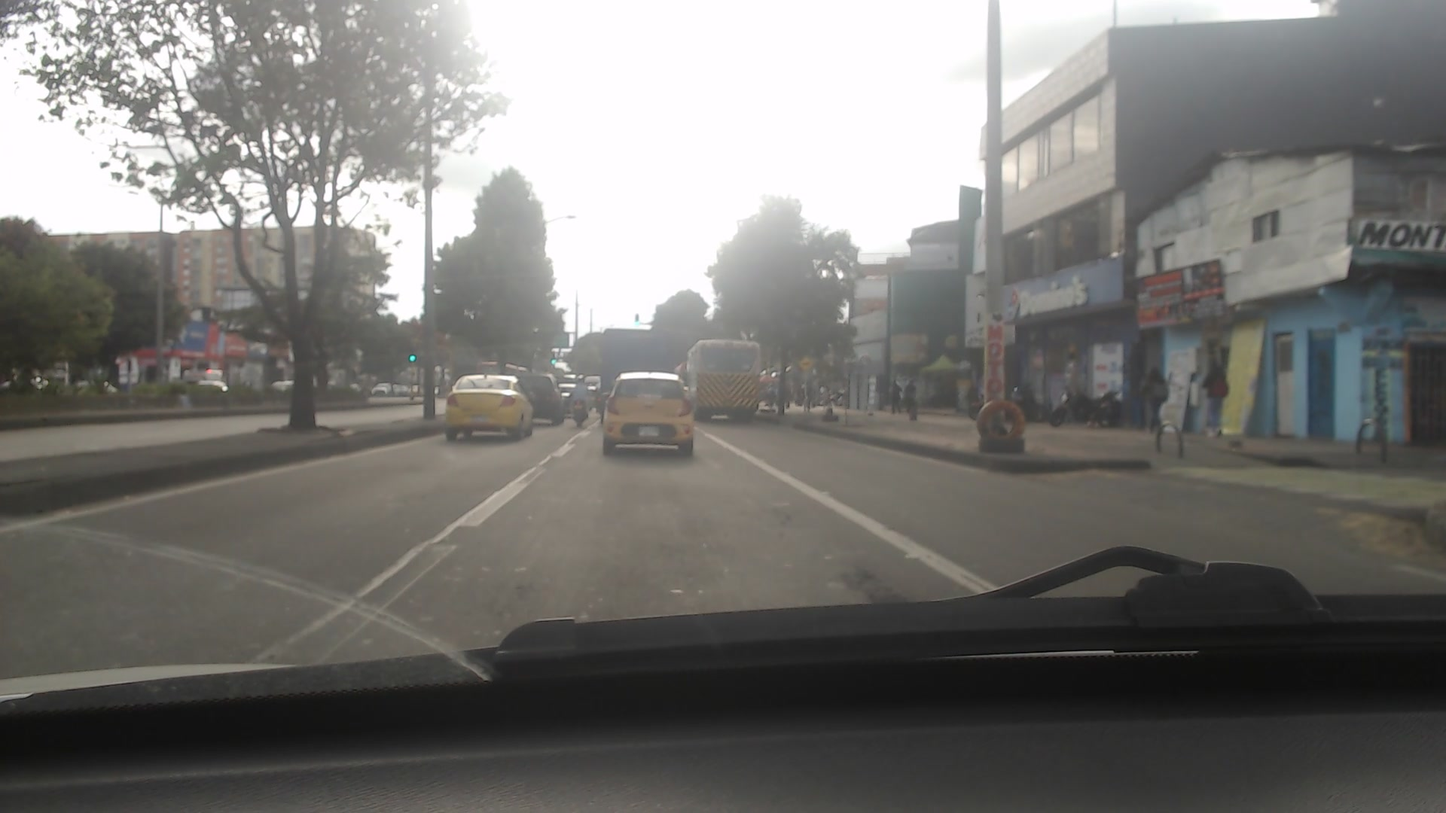bus: (684, 339, 766, 420)
car: (600, 371, 699, 455), (444, 373, 536, 440), (515, 372, 566, 428)
motorcycle: (570, 399, 590, 429)
person: (904, 380, 918, 414), (571, 375, 589, 401), (890, 378, 902, 416)
truck: (602, 327, 682, 375)
